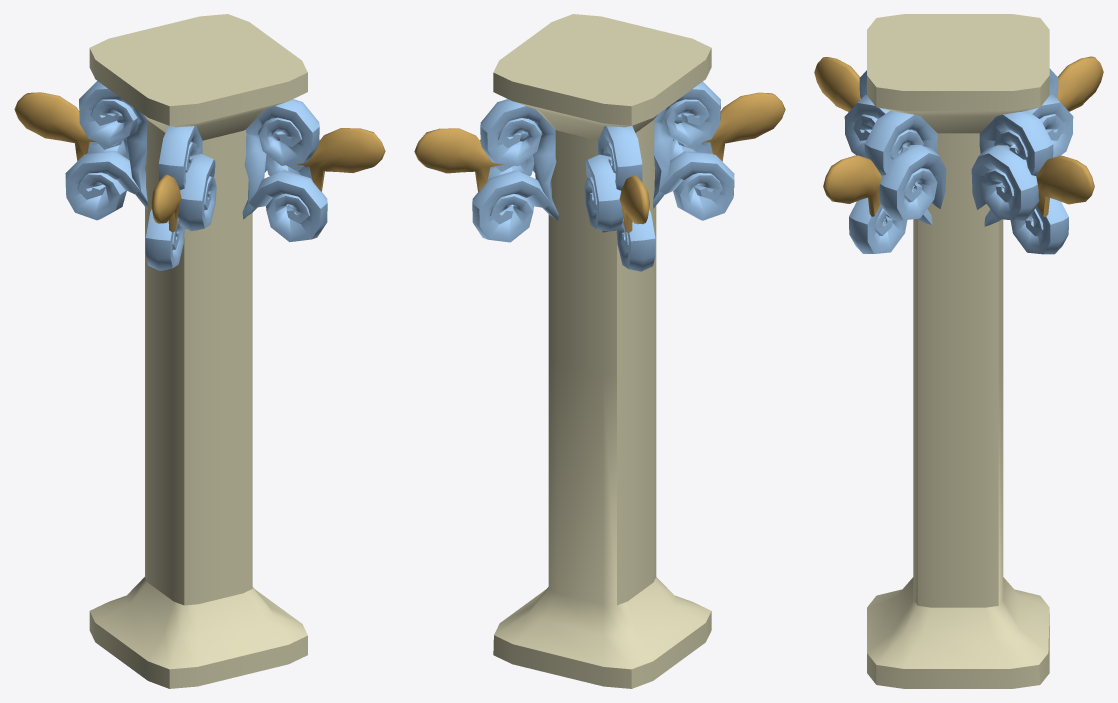
Rendered from Fish Column.glb.
The picture shows the model from 3 angles, left to right: view 1: azimuth 30°, elevation 25°; view 2: azimuth 150°, elevation 25°; view 3: azimuth 270°, elevation 25°; orthographic projection. The views are drawn at different scales.
Parts seen in each view (by area): view 1: Box001; view 2: Box001; view 3: Box001.
Boxes of the visible parts, bbox=[...] form: Box001: bbox=[14, 14, 385, 688]; Box001: bbox=[414, 14, 785, 688]; Box001: bbox=[814, 14, 1103, 688].
Size of the model in its own units: 156 by 366 by 161.
